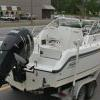Boat: (14, 7, 99, 100)
